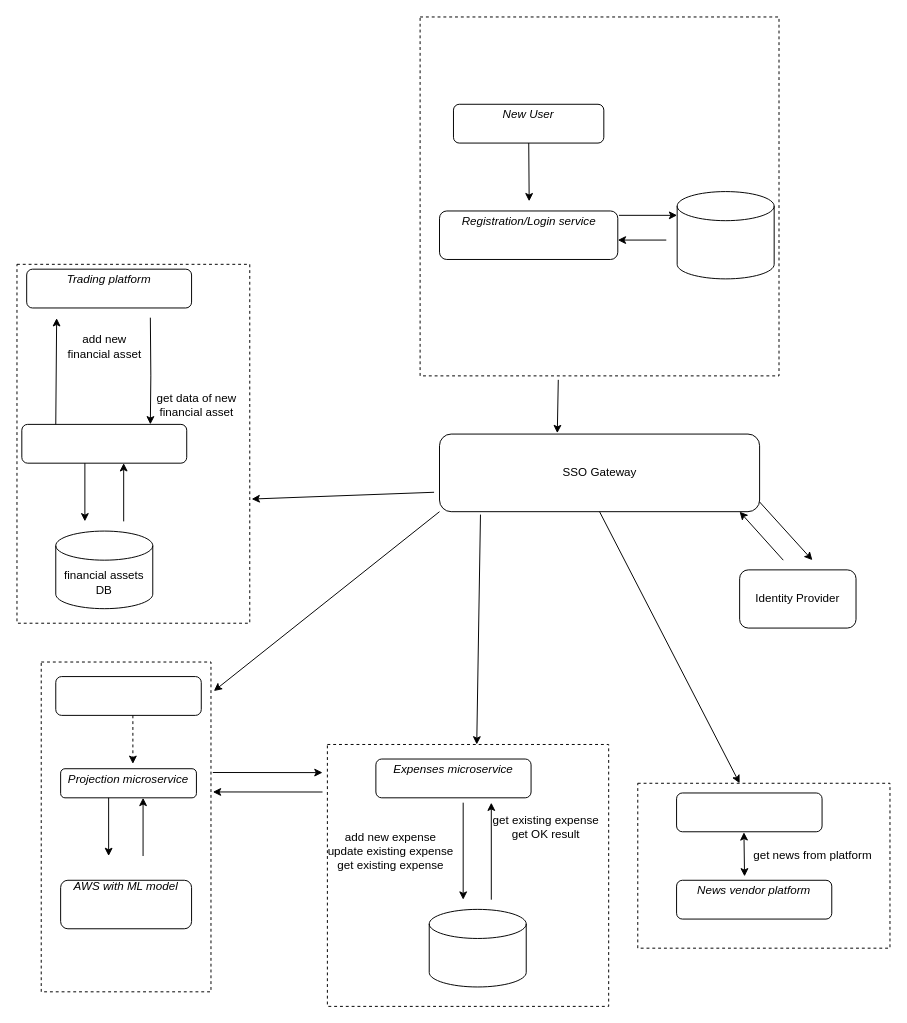
Some shapes in this 907 by 1023 pixel diagram are drawn without their labels. Each missing label, with the centre of its shape:
"Expenses DB" belongs at point 477,947.
"Financial Assets microservice" belongs at point 104,443.
"News Microservice" belongs at point 749,812.
"Request Queue <projection> request" belongs at point 128,695.
"User DB" belongs at point 725,235.
